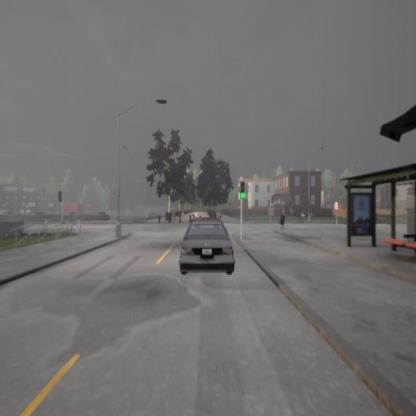traffic_light_green: (238, 180, 246, 201)
vehicle: (178, 219, 237, 276)
